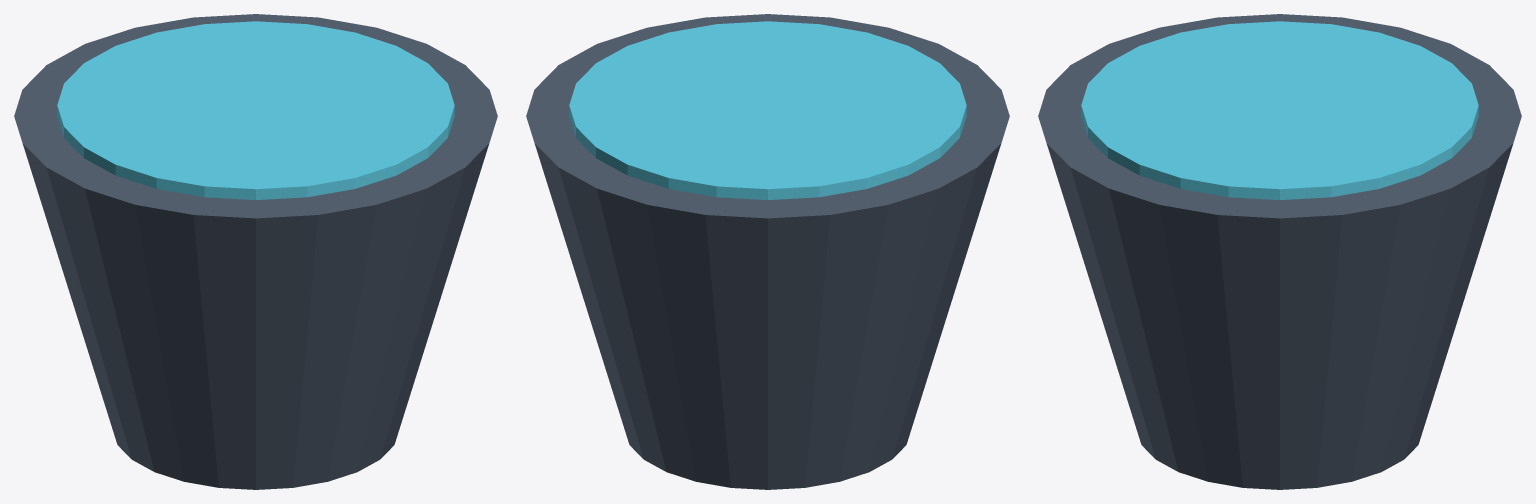
Rendered from SM_Tuyere_Aux.obj.
3 views of the same model, side by side, from view 1: azimuth 30°, elevation 25°; view 2: azimuth 150°, elevation 25°; view 3: azimuth 270°, elevation 25° (orthographic).
Size of the model in its own units: 2800 by 2070 by 2800.
